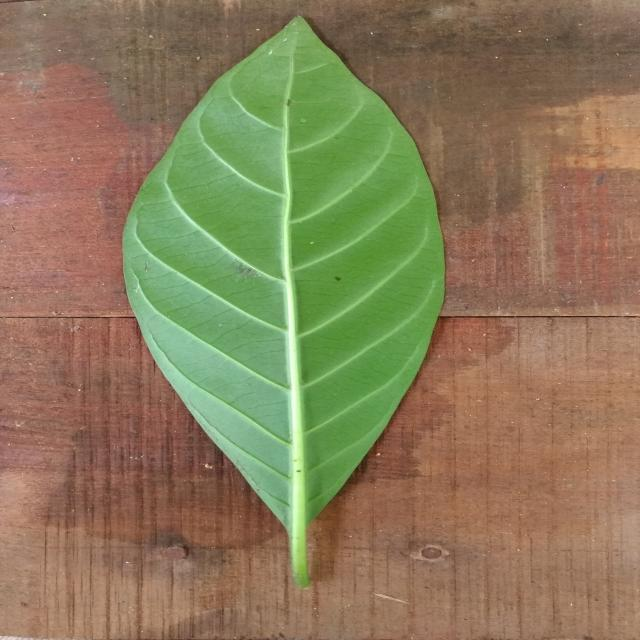leaf: (120, 14, 447, 588)
